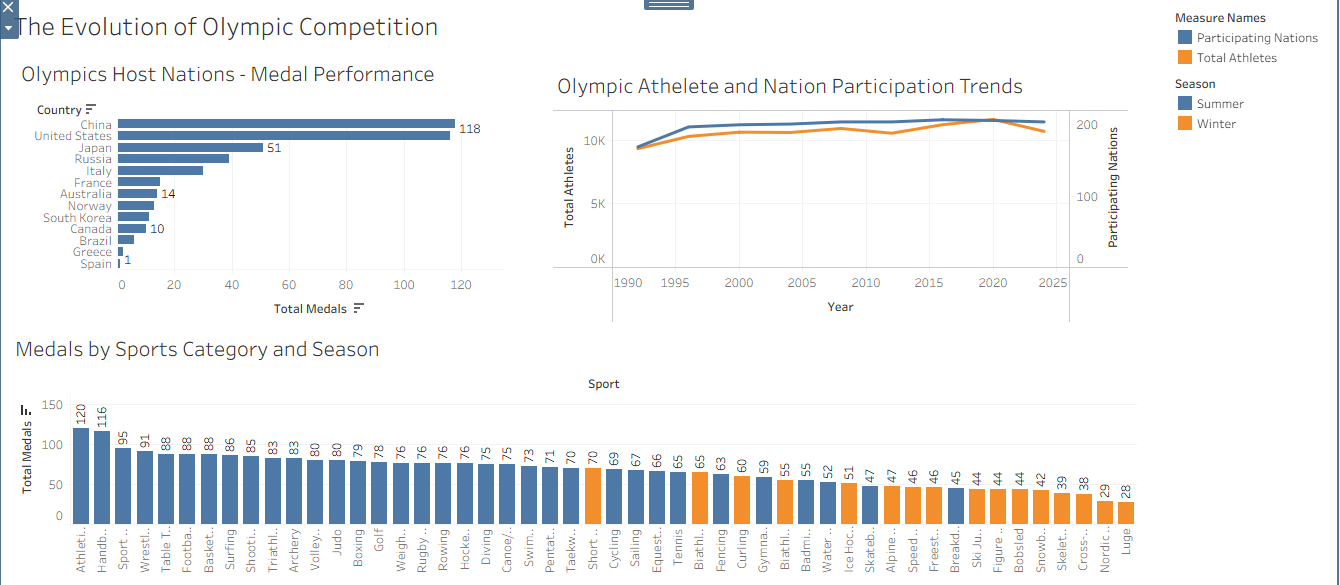

The dashboard page shown, as its layout file describes it:
{"tool":"tableau","page":{"name":"Dashboard 3","canvas":[1000,1000],"units":"permille","ordinal":0},"visuals":[{"type":"title","box":[6.7,13.5,852,70.9]},{"type":"legend","title":"Olympic Athelete and Nation Participation Trends","param":"[federated.1xbjlsf0kcdyhj110plwz13j4b9h].[:Measure Names]","box":[858.7,13.5,134.6,111.5]},{"type":"worksheet","title":"Olympics Host Nations - Medal Performance","mark":"Bar","rows":["country"],"cols":["total_medals"],"box":[13.5,98,363.3,454.4]},{"type":"worksheet","title":"Olympic Athelete and Nation Participation Trends","mark":"Automatic","rows":["total_athletes","participating_nations"],"cols":["year"],"box":[413.8,118.2,429.8,432.4]},{"type":"legend","title":"Medals by Sports Category and Season","param":"[federated.0r95c840zp78gn1b774i40nsjyew].[none:season:nk]","box":[858.7,125,134.6,111.5]},{"type":"worksheet","title":"Medals by Sports Category and Season","mark":"Bar","rows":["total_medals"],"cols":["sport"],"box":[9.2,562.5,840.2,413.9]}]}

Visuals, with their boxes on the dashboard's canvas, which has no fixed pixel size, in thousandths of its width and height (x1, y1, x2, y2). These are canvas units, not pixel positions in the 1340x585 screenshot, which may show the page scaled, cropped or inside an application window:
title: [7,14,859,84]
"Olympic Athelete and Nation Participation Trends" legend: [859,14,993,125]
"Olympics Host Nations - Medal Performance" worksheet (Bar marks): [14,98,377,552]
"Olympic Athelete and Nation Participation Trends" worksheet: [414,118,844,551]
"Medals by Sports Category and Season" legend: [859,125,993,236]
"Medals by Sports Category and Season" worksheet (Bar marks): [9,562,849,976]
